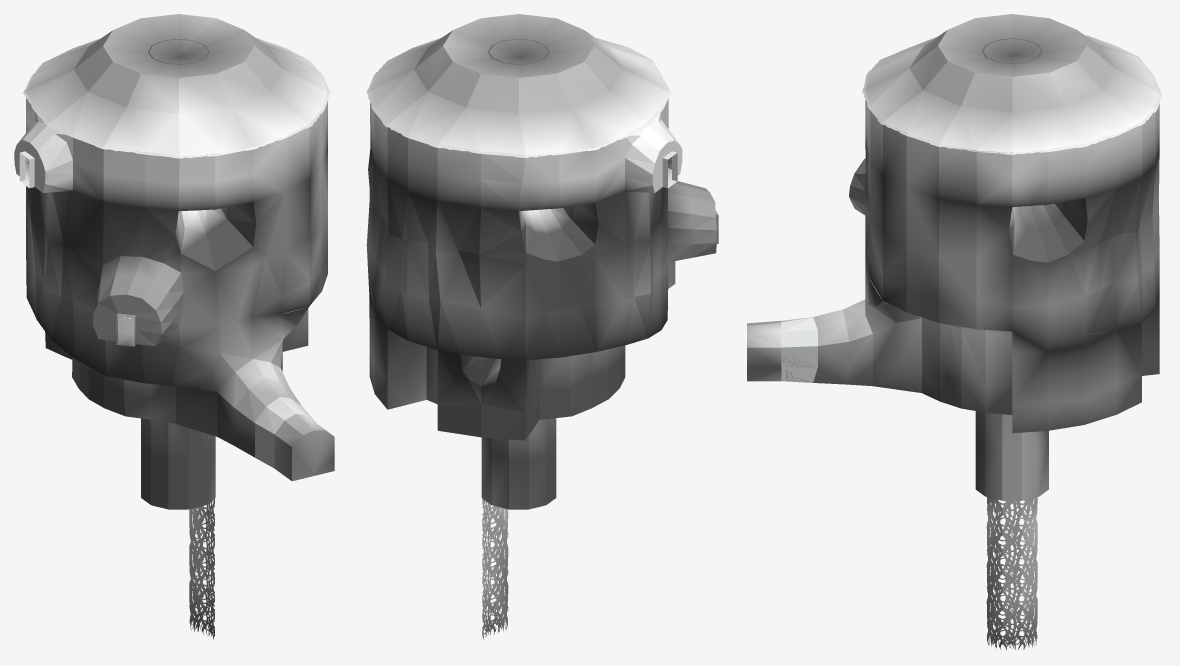
File: dekutree.fbx
The picture shows the model from 3 angles, left to right: view 1: azimuth 30°, elevation 25°; view 2: azimuth 150°, elevation 25°; view 3: azimuth 270°, elevation 25°; orthographic projection.
Parts seen in each view (by area): view 1: inside_the_deku_tree_00; view 2: inside_the_deku_tree_00; view 3: inside_the_deku_tree_00.
Part boxes in pixels (x1,y1,x2,y2): inside_the_deku_tree_00: [14, 14, 334, 639]; inside_the_deku_tree_00: [366, 14, 718, 639]; inside_the_deku_tree_00: [747, 14, 1162, 649].
Bounding box in the file's own units: 122349 × 243724 × 156451.
